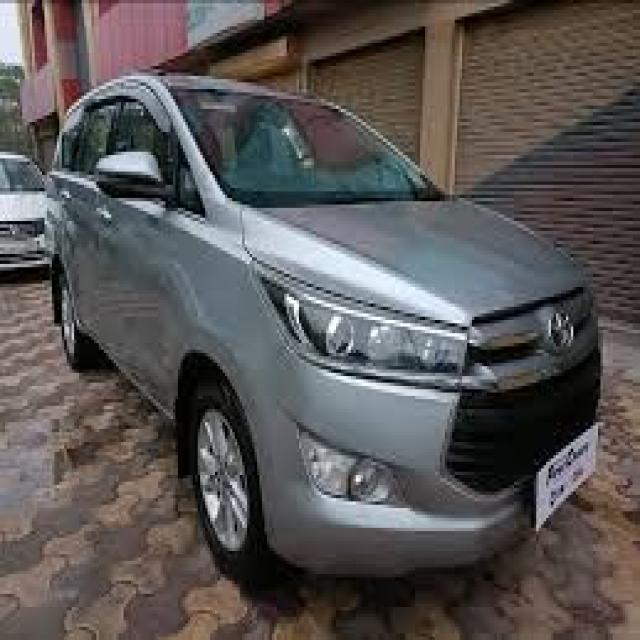light_vehicle: (47, 75, 602, 578)
